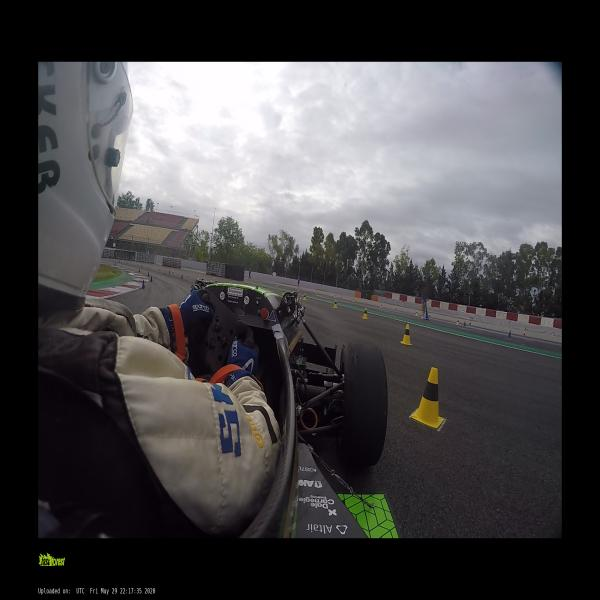blue_cone: (141, 280, 146, 288), (149, 276, 153, 283), (507, 331, 511, 338), (463, 321, 466, 326), (138, 268, 140, 273), (181, 274, 183, 279), (147, 272, 149, 276), (141, 264, 143, 268), (114, 263, 116, 266), (169, 270, 170, 274)
orange_cone: (522, 330, 526, 337)
yellow_cone: (410, 367, 446, 431), (399, 324, 412, 346), (362, 307, 368, 319), (333, 300, 337, 308), (456, 318, 459, 326), (414, 310, 418, 316), (379, 303, 382, 308), (229, 278, 232, 283), (304, 293, 306, 300), (352, 298, 355, 302), (260, 280, 262, 285), (213, 274, 215, 279), (316, 290, 318, 294), (334, 294, 336, 298), (283, 288, 284, 294)
